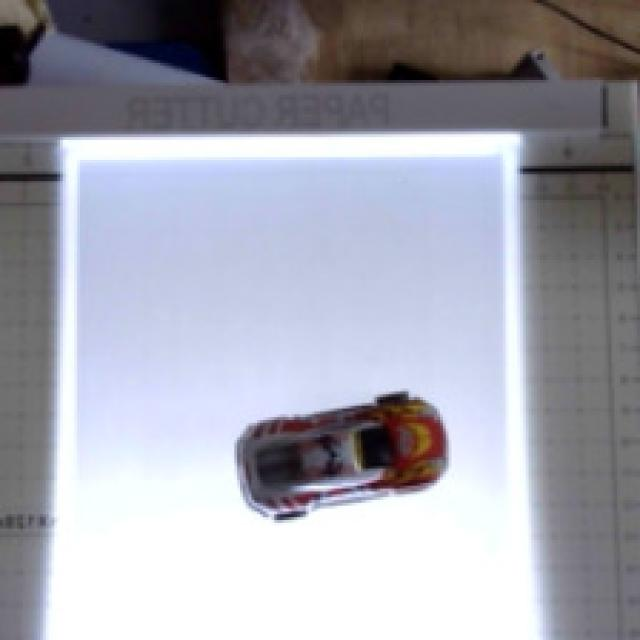Red Car: (203, 336, 482, 565)
